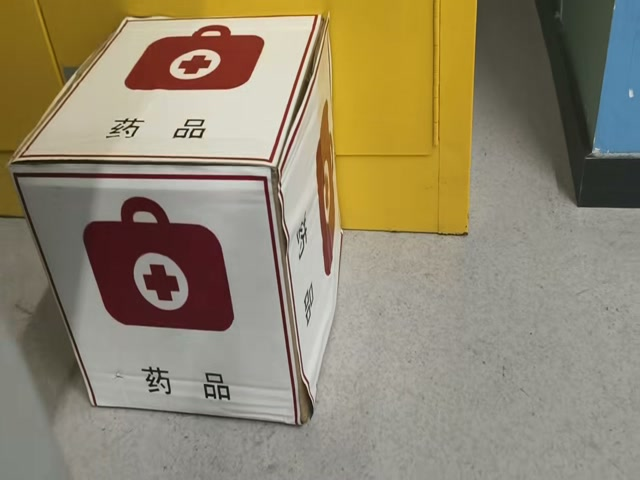Cube_medicine: (20, 16, 321, 177)
